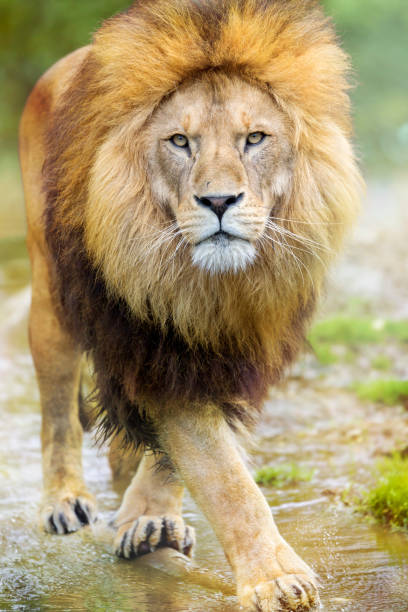lion: (42, 4, 393, 446)
